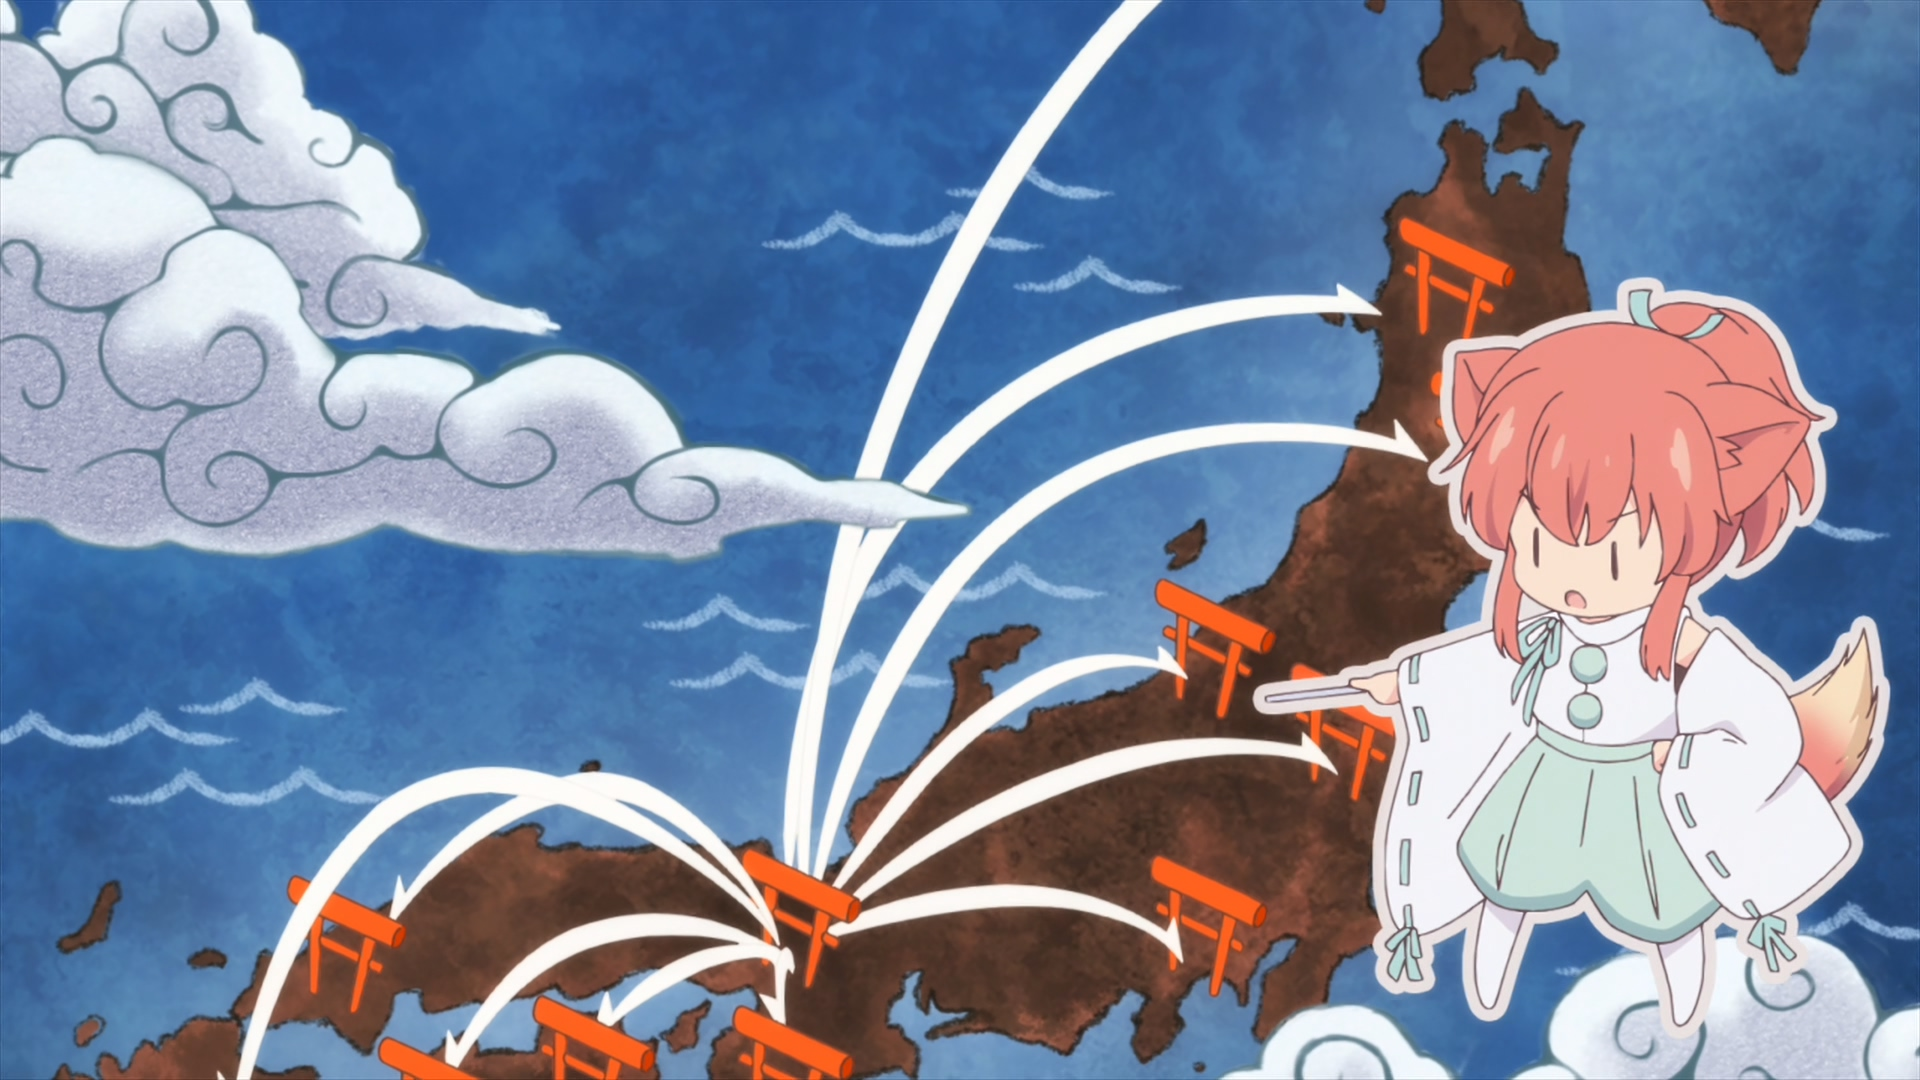椿: (1342, 284, 1892, 1038)
